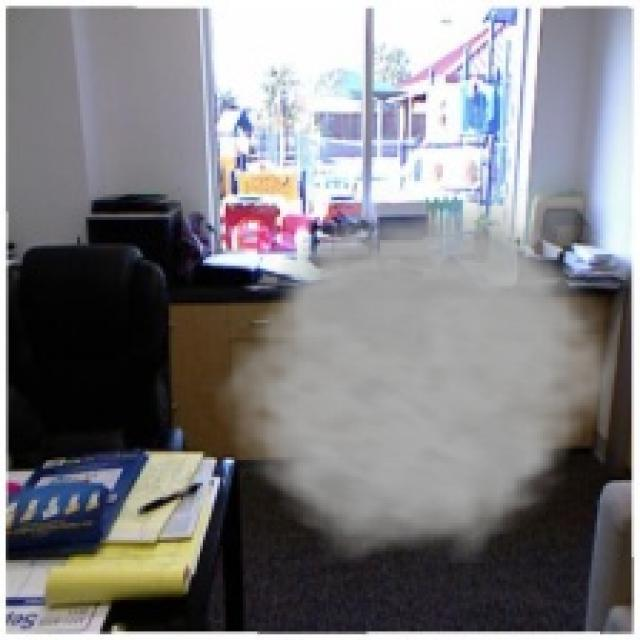Smoke: (206, 183, 628, 563)
